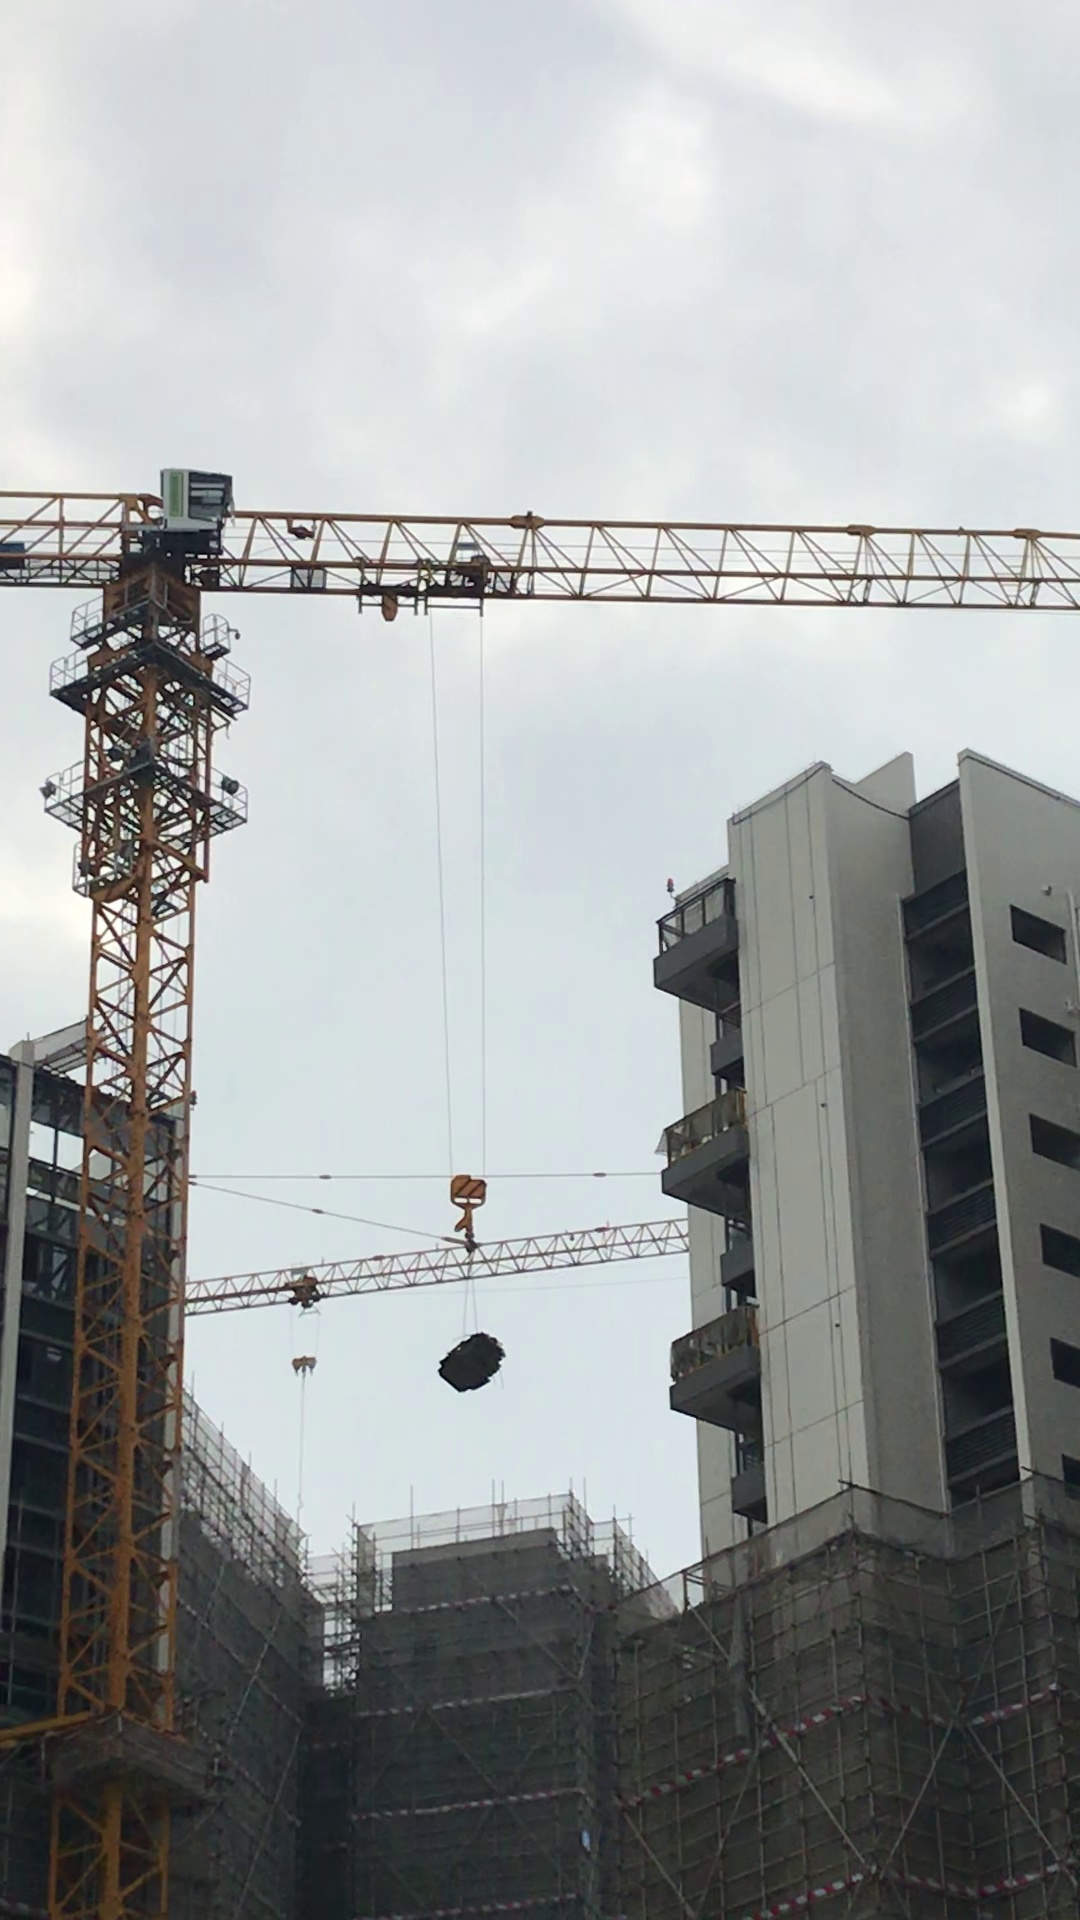hook: (447, 1171, 489, 1251), (284, 1354, 327, 1379)
